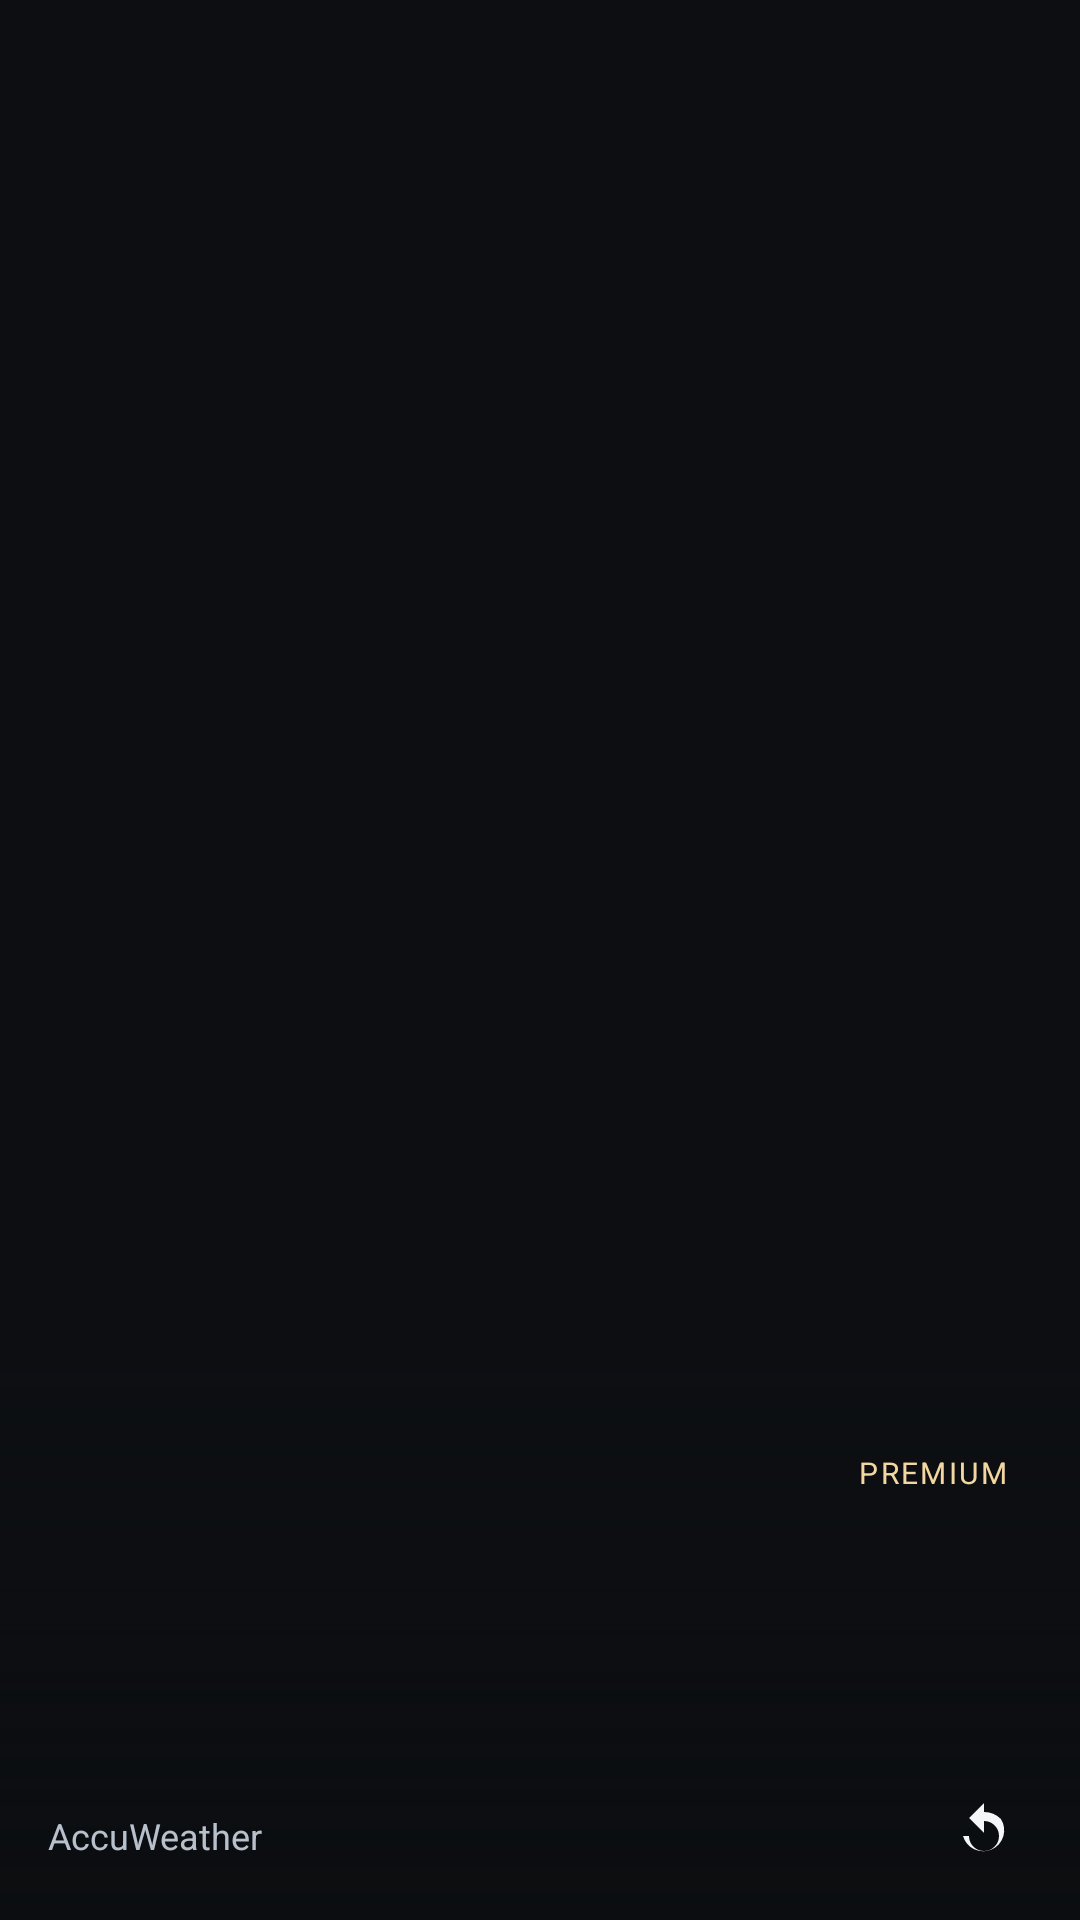

Screen size 1080 x 1920. Icon name, then its box in pixels as [x1=x1, y1=y1, x2=x2, y2=y2]:
Refresh radar: [x1=963, y1=1803, x2=1005, y2=1852]
